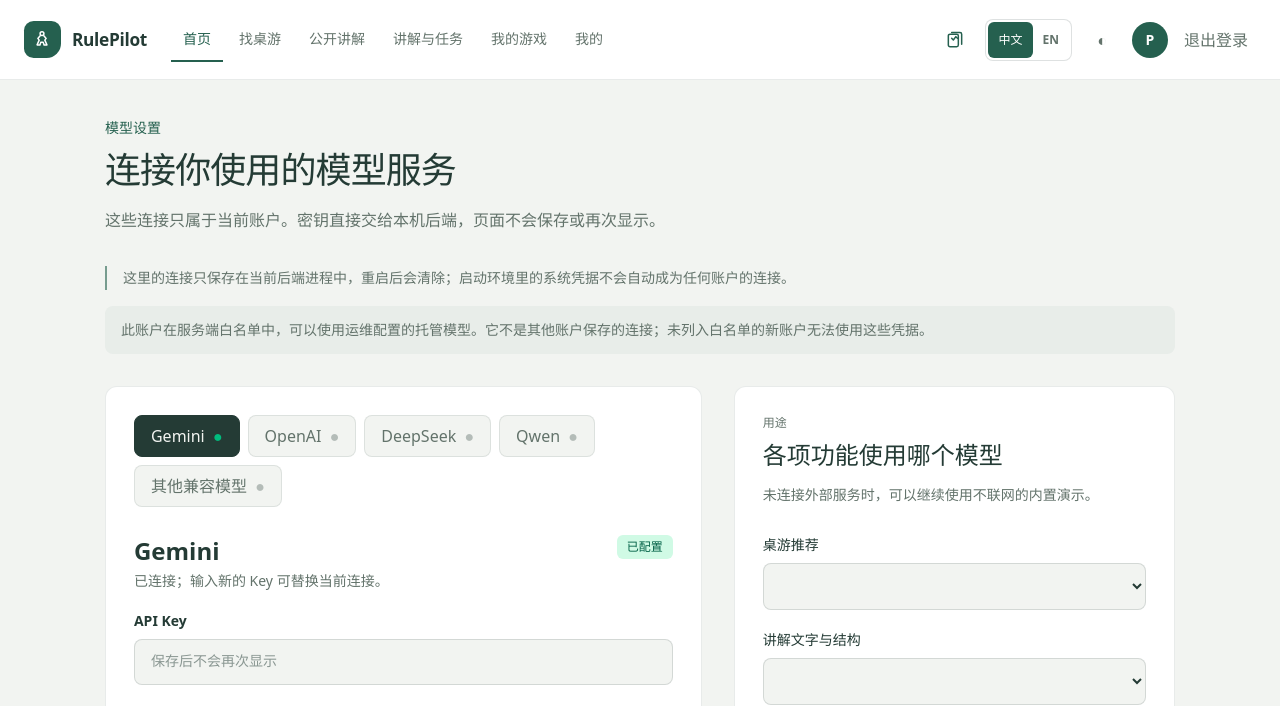
Test case: ModelSettingsView › loads redacted provider state and renders a password-only key field
Click the tab "Qwen ●" at (547, 436), box [499,415,595,457]
(page scrolled)
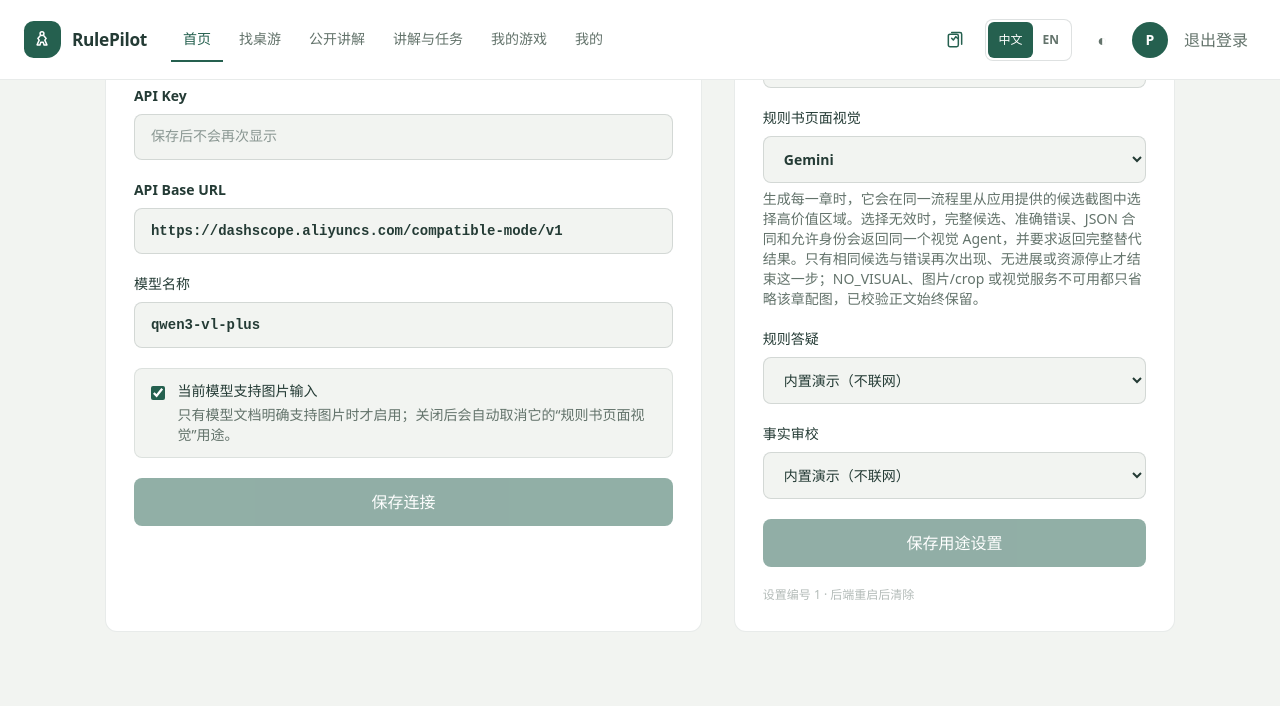
expect the text "Qwen VL 可以读取规则书页面图片" is shown: met, box [150,8,657,51]
expect the field labelled "API Base URL" holds "https://dashscope.aliyuncs.com/compatible-mode/v1": met, box [134,208,673,254]
